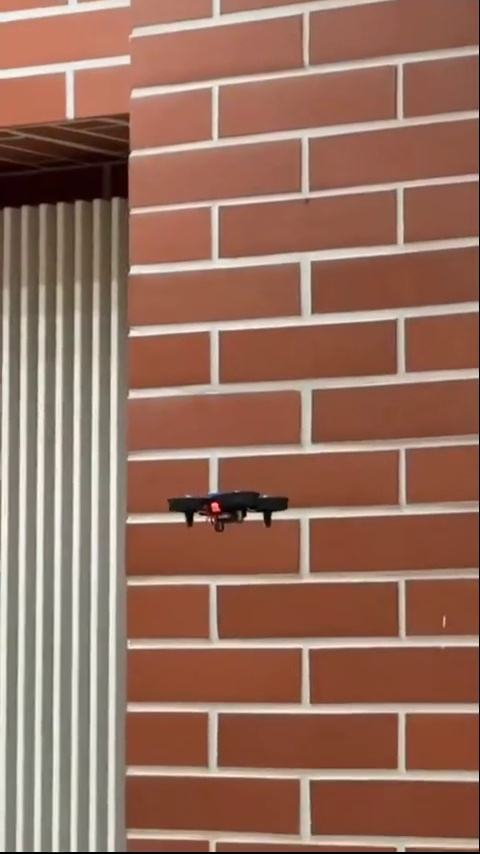drone: (168, 486, 293, 535)
